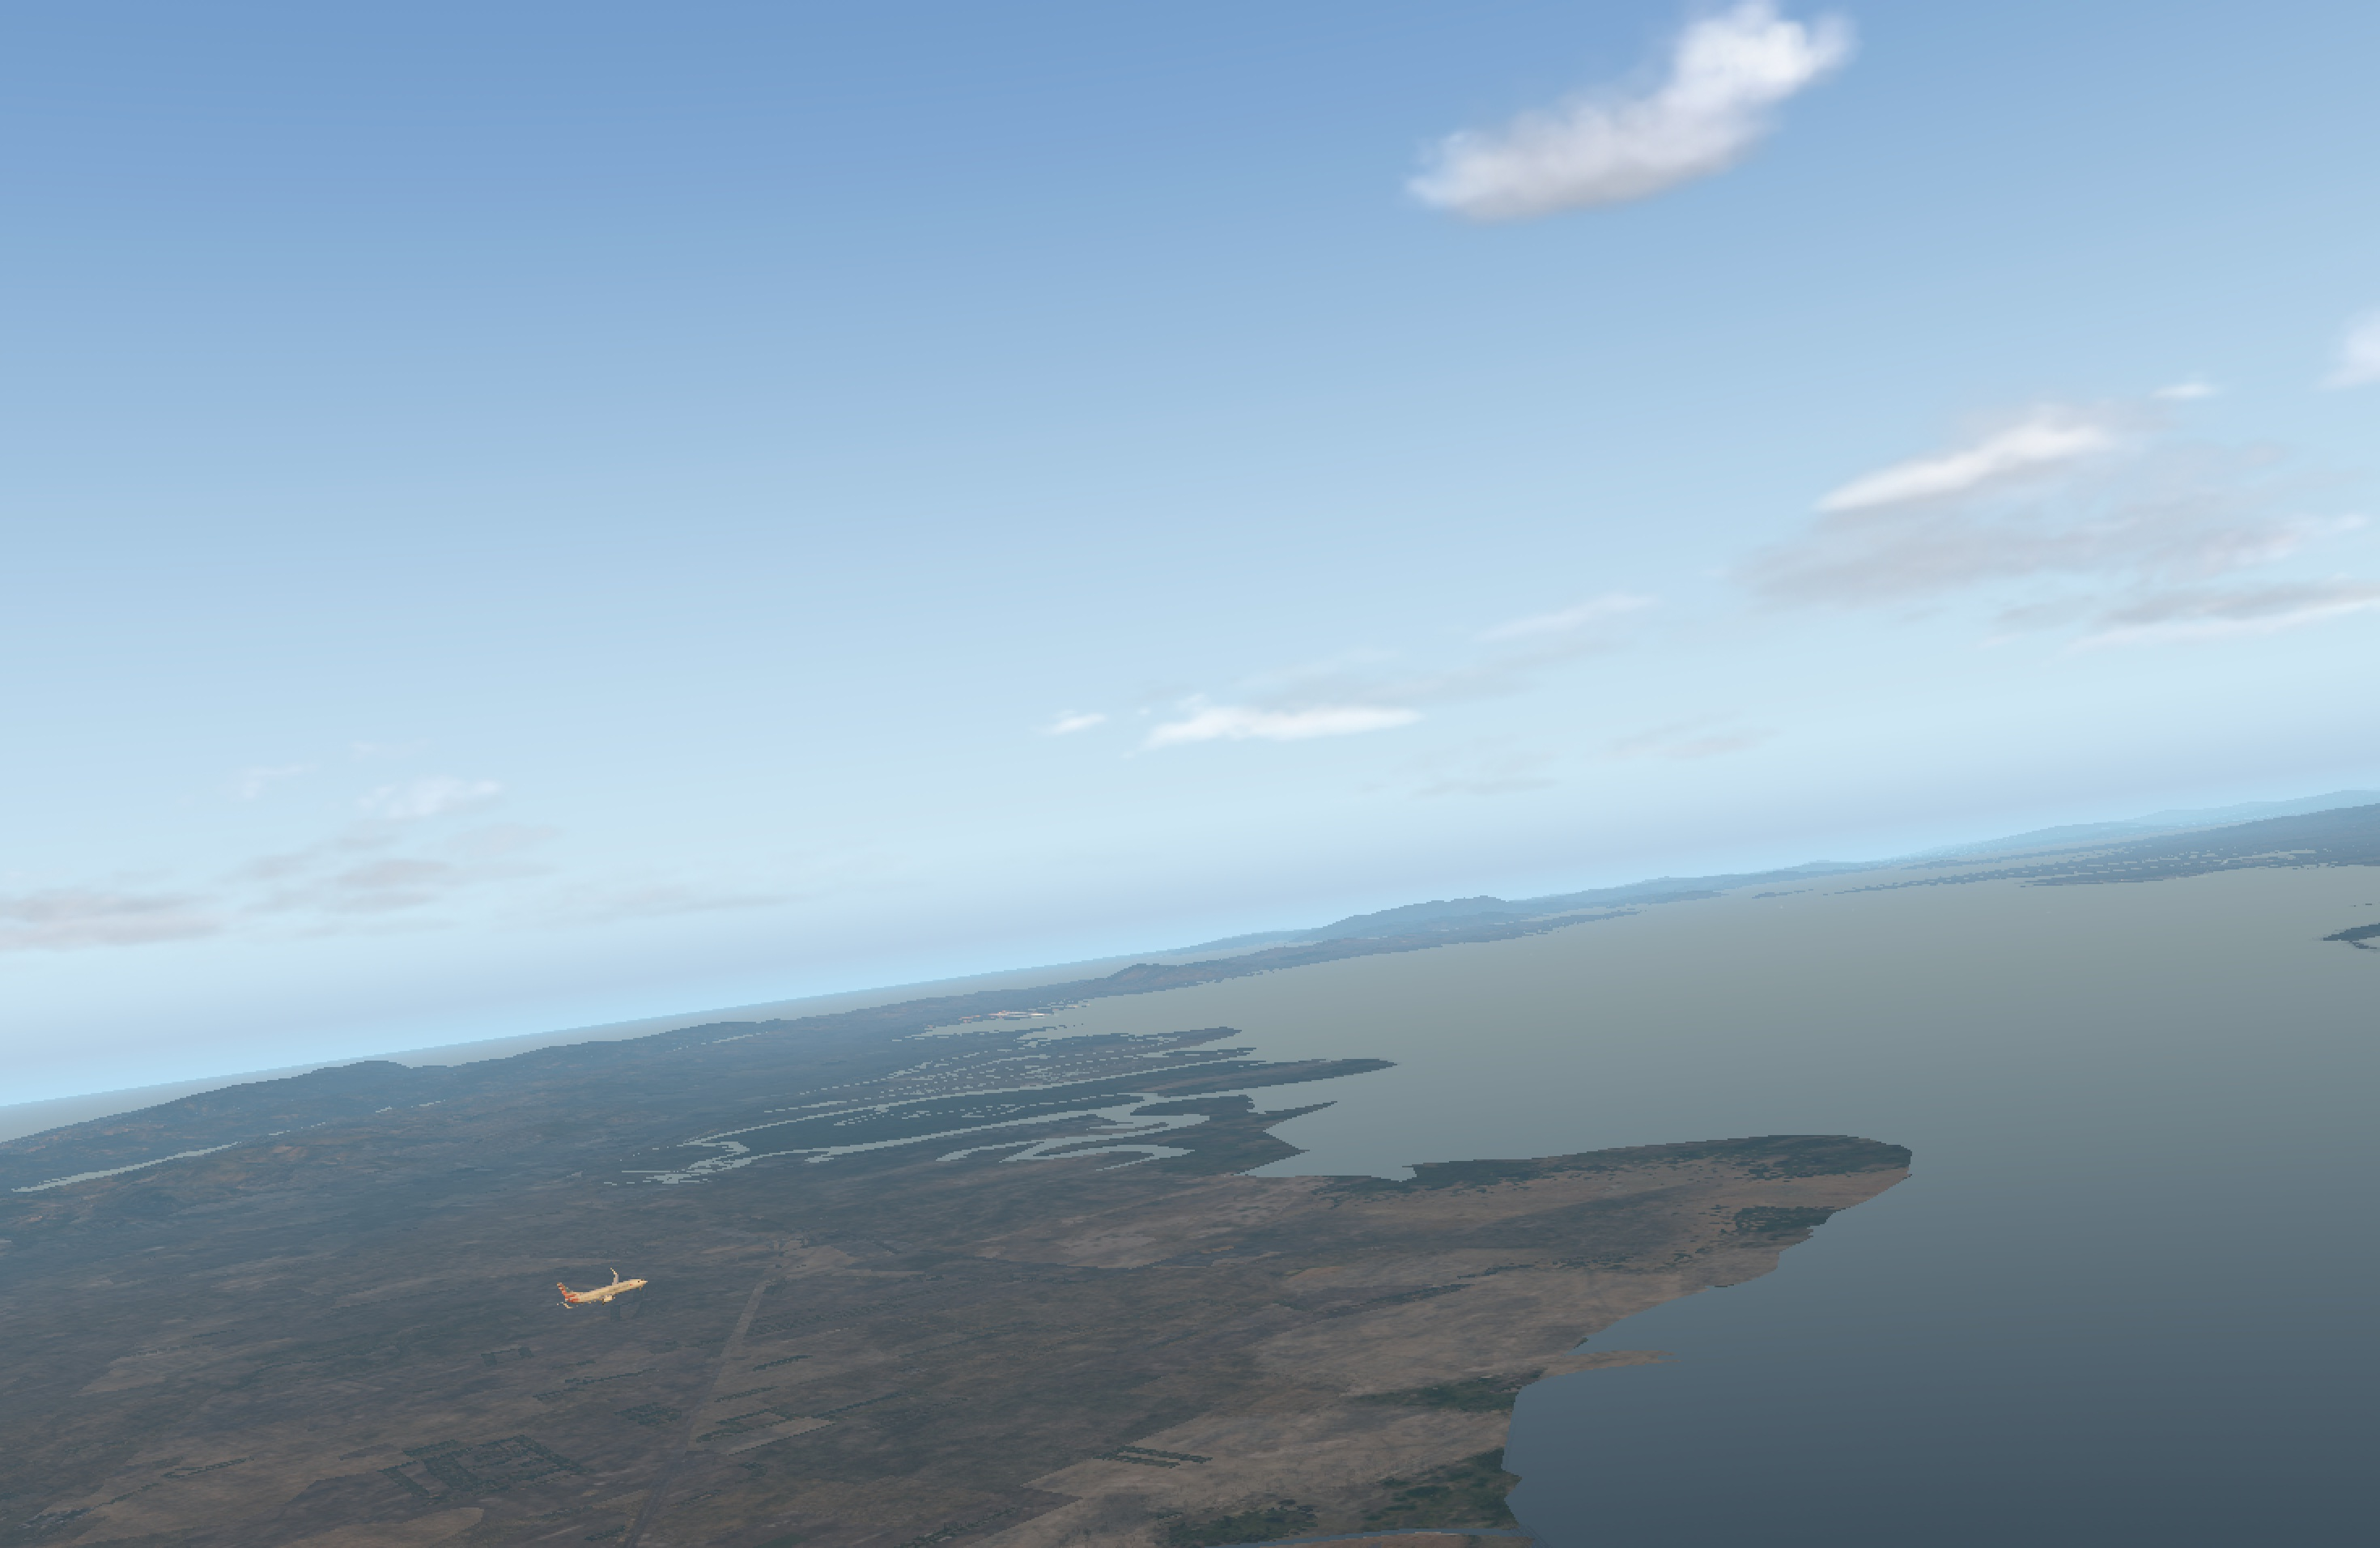aircraft: (560, 1276, 656, 1310)
